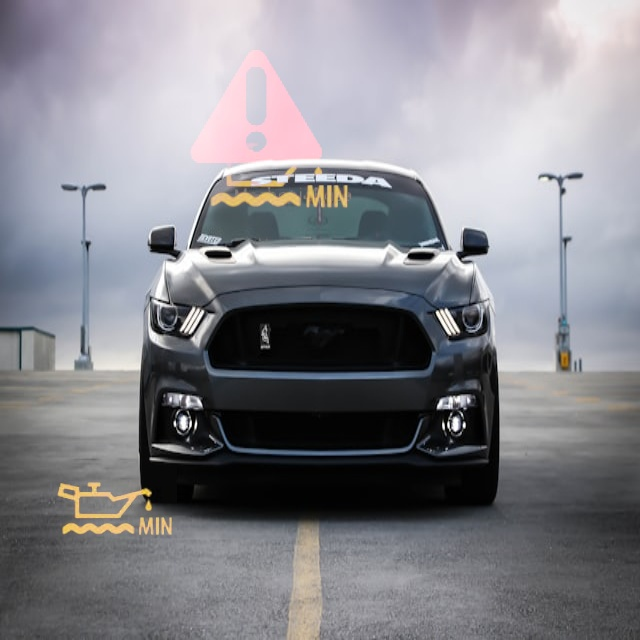symbol: (151, 3, 360, 212), (195, 96, 354, 255), (50, 446, 177, 573)
